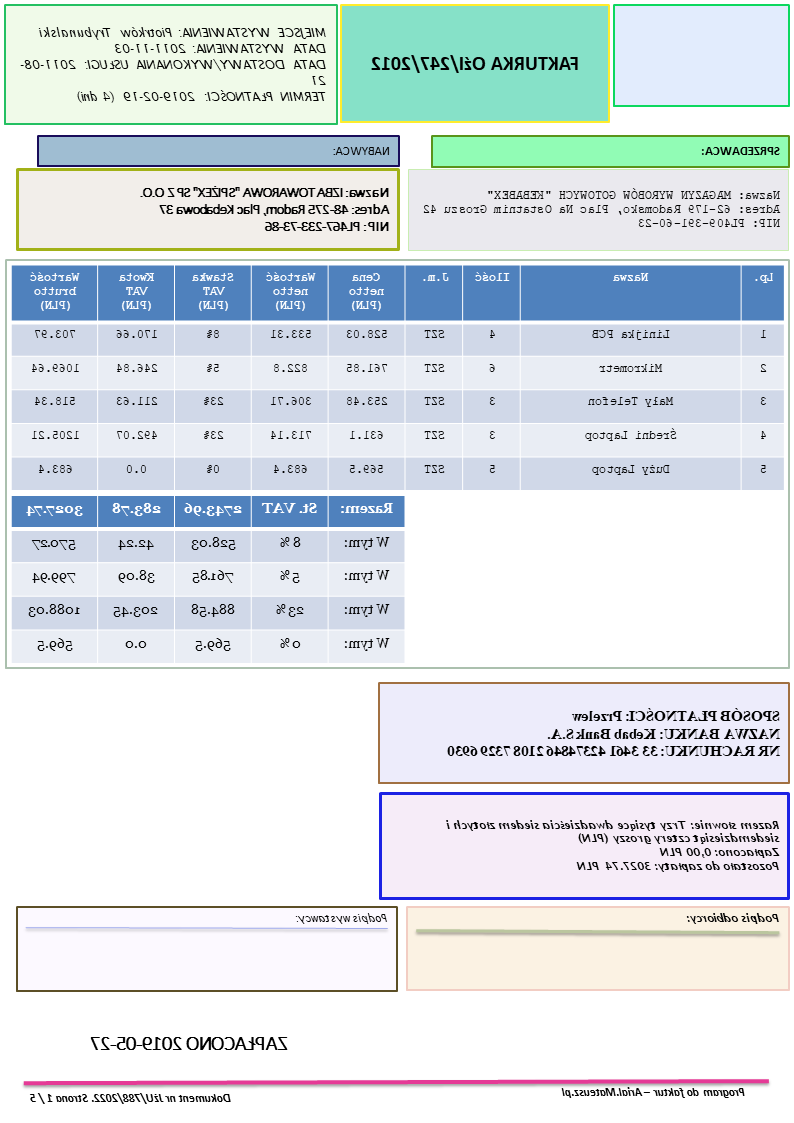Table: (11, 262, 786, 491), (11, 495, 406, 664)
TextBox: (19, 23, 331, 105), (442, 817, 782, 874), (446, 705, 782, 760), (422, 188, 783, 231), (140, 185, 393, 234), (369, 53, 582, 75), (87, 1031, 291, 1053), (28, 1090, 234, 1106), (558, 1084, 750, 1100), (686, 910, 783, 926), (700, 143, 783, 160), (295, 911, 389, 925), (332, 142, 394, 160)
